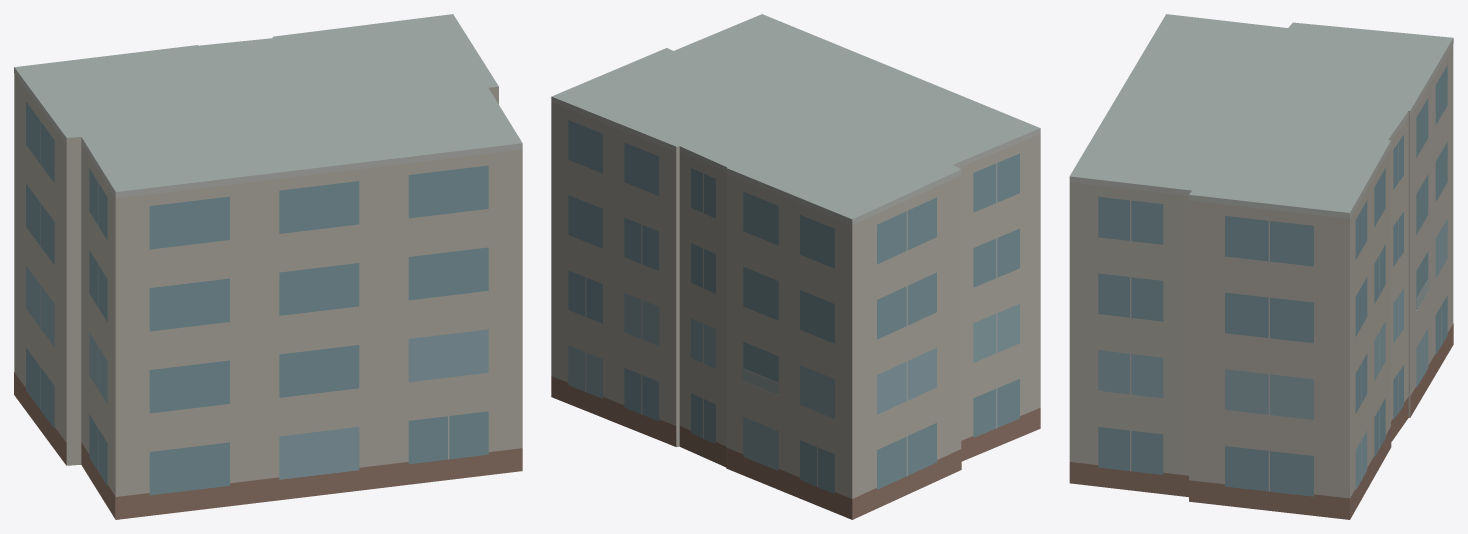
File: survey-upis-32992071.glb
3 views of the same model, side by side, from view 1: azimuth 30°, elevation 25°; view 2: azimuth 150°, elevation 25°; view 3: azimuth 270°, elevation 25° (orthographic). The views are drawn at different scales.
Parts seen in each view (by area): view 1: survey-upis-32992071.tmp; view 2: survey-upis-32992071.tmp; view 3: survey-upis-32992071.tmp.
Boxes of the visible parts, bbox=[...] form: survey-upis-32992071.tmp: bbox=[14, 14, 522, 519]; survey-upis-32992071.tmp: bbox=[551, 14, 1040, 519]; survey-upis-32992071.tmp: bbox=[1069, 14, 1453, 519].
Bounding box in the file's own units: 18.08 × 13 × 14.75.
